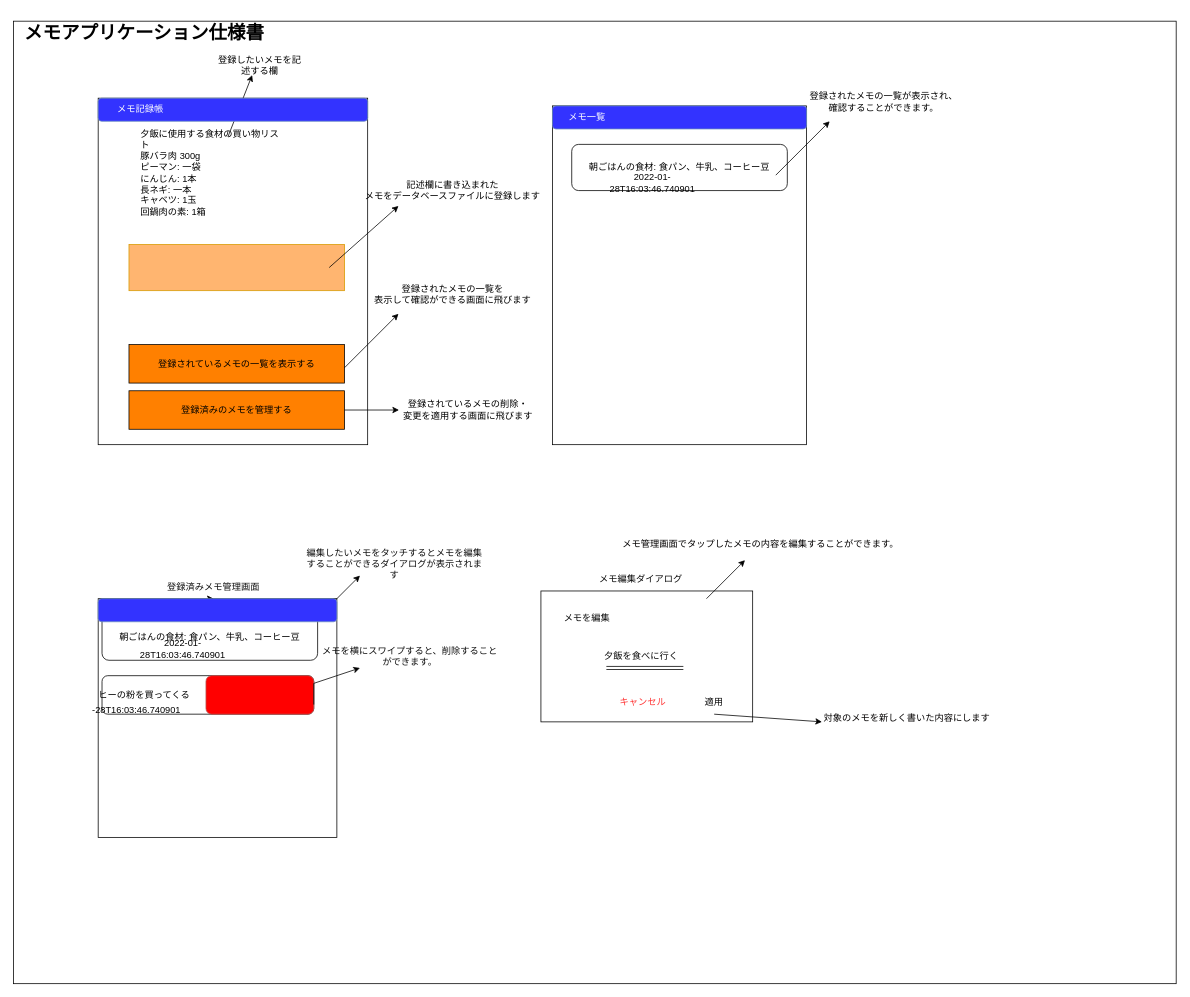
The diagram is 1190 pixels wide and 997 high, and some of its shapes have lost their labels. The box of each missing label's shape, as (x1, y1, x2, y2) in pixels:
メモを追加する: (128, 244, 345, 291)
メモ管理: (97, 598, 337, 622)
